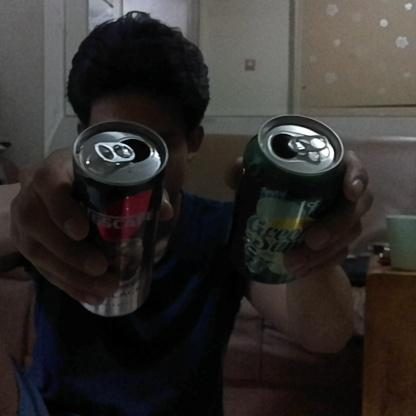alumunium_can: (70, 119, 170, 320), (228, 116, 343, 288)
